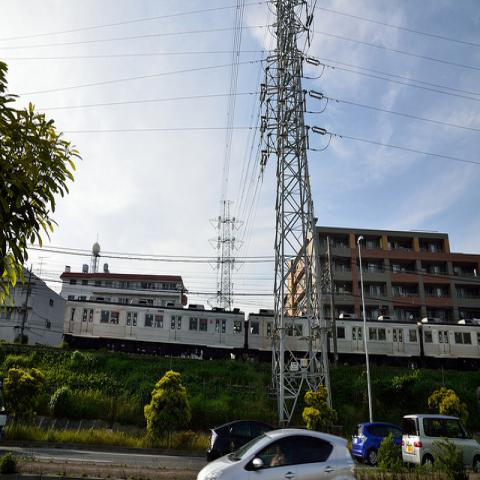car: (199, 426, 358, 475), (400, 415, 480, 471), (207, 419, 270, 462), (352, 421, 404, 465)
truck: (401, 416, 478, 473)
